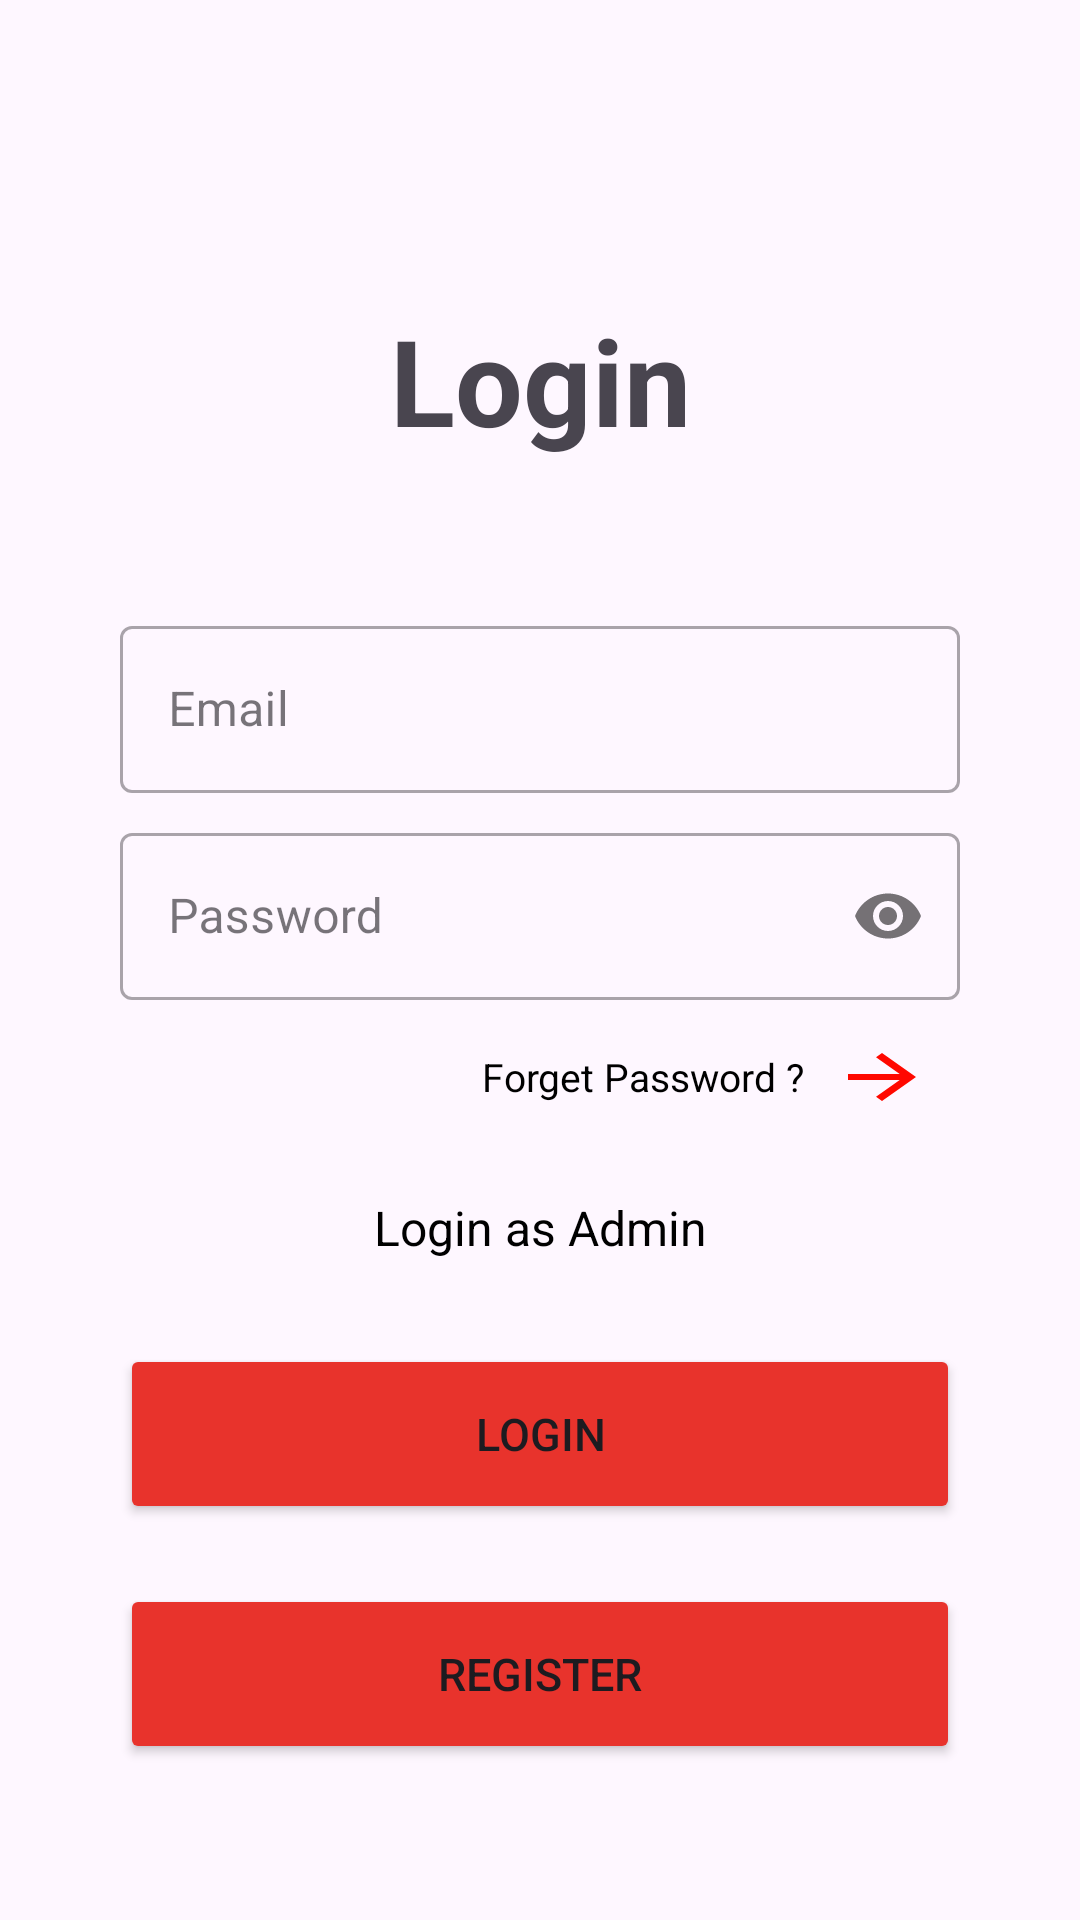

Icons on this 1080 × 1920 Android screen, each with the point to tap as (x,y):
Go to the next step: (882,1077)
